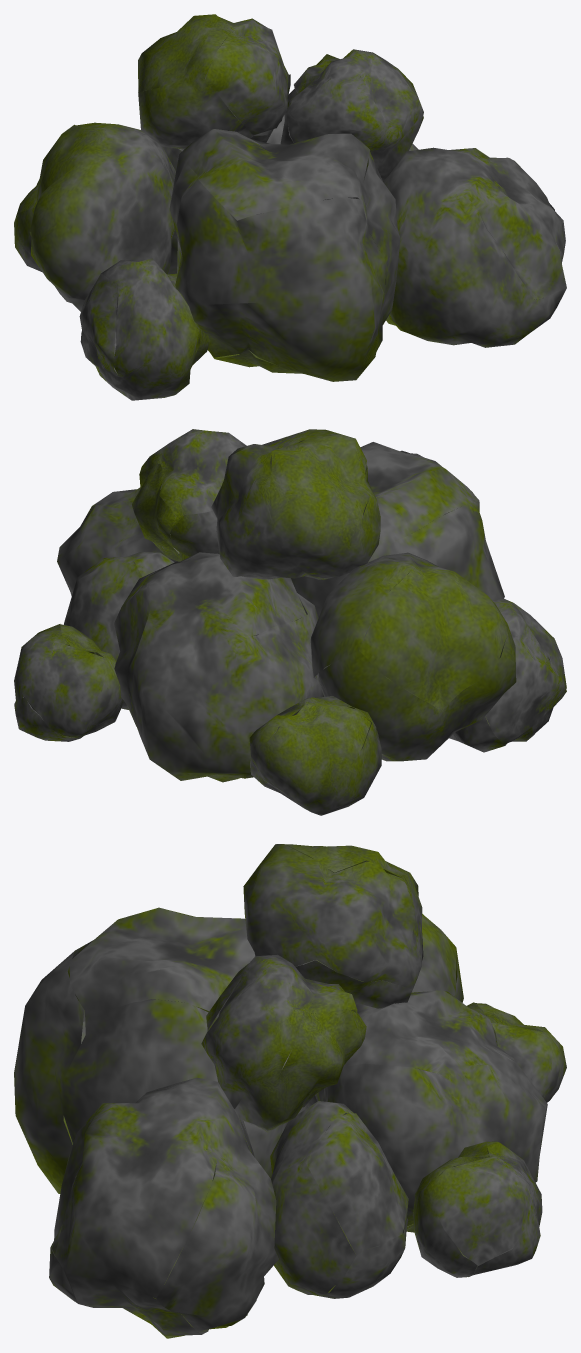
File: outcrop_mossy.glb
3 renders of one model, top to bottom at view 1: azimuth 30°, elevation 25°; view 2: azimuth 150°, elevation 25°; view 3: azimuth 270°, elevation 25°, orthographic. The views are drawn at different scales.
Visible parts, largest first — view 1: Object_27; view 2: Object_27; view 3: Object_27.
Boxes of the visible parts, x1,y1,x2,y2 form: Object_27: [14, 14, 566, 400]; Object_27: [14, 429, 566, 815]; Object_27: [14, 844, 566, 1338].
Bounding box in the file's own units: 7.26 × 4.7 × 6.28.
Materials: 1 (1 with a texture image).
